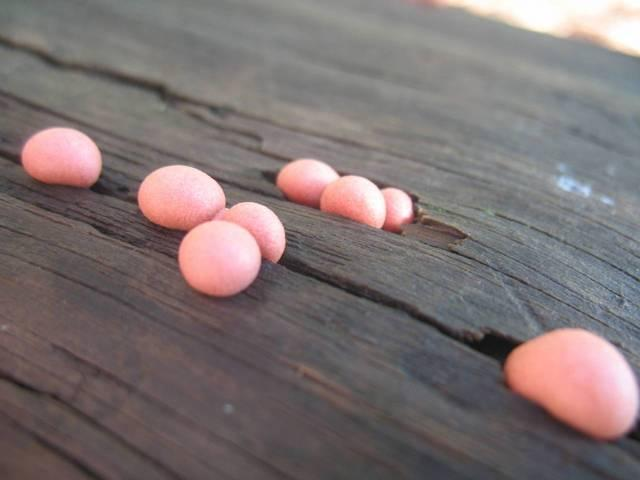Non-edible Mushroom: (136, 163, 286, 297), (502, 325, 639, 440), (177, 219, 262, 297), (136, 163, 226, 230), (20, 125, 103, 188), (214, 200, 286, 263), (319, 174, 386, 228), (275, 157, 339, 207), (380, 186, 415, 232)
